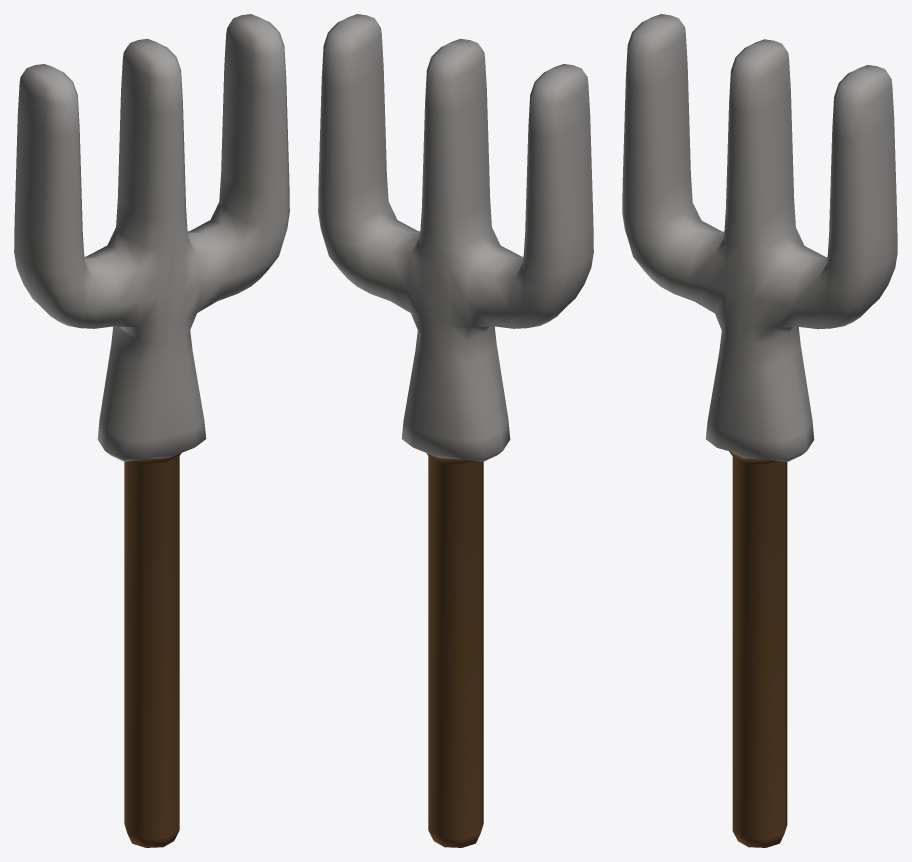
Rendered from Trident.fbx.
The picture shows the model from 3 angles, left to right: view 1: azimuth 30°, elevation 25°; view 2: azimuth 150°, elevation 25°; view 3: azimuth 330°, elevation 25°; orthographic projection.
Visible parts, largest first — view 1: Plane; view 2: Plane; view 3: Plane.
Boxes of the visible parts, box(x1,y1,x2,y2) form: Plane: box(14, 14, 289, 847); Plane: box(318, 14, 593, 847); Plane: box(622, 14, 897, 847).
Size of the model in its own units: 32.77 by 98.27 by 9.27.
